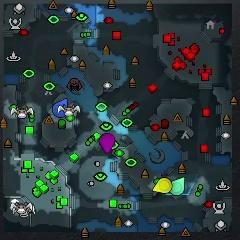p1: (53, 98, 68, 118)
p2: (171, 177, 185, 196)
p3: (100, 133, 115, 153)
p4: (153, 178, 172, 193)
